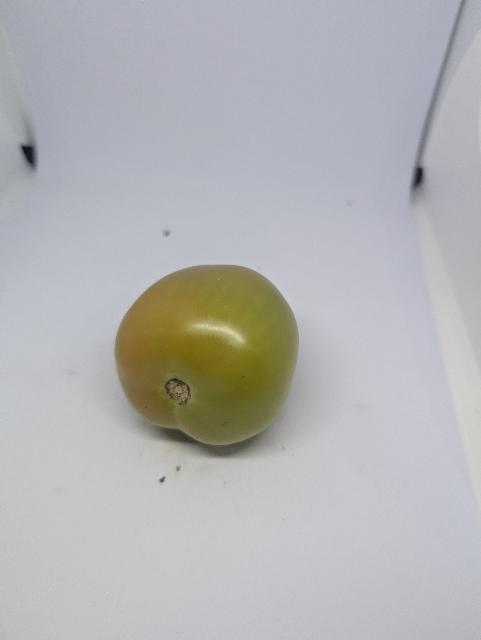breaker: (115, 265, 299, 445)
